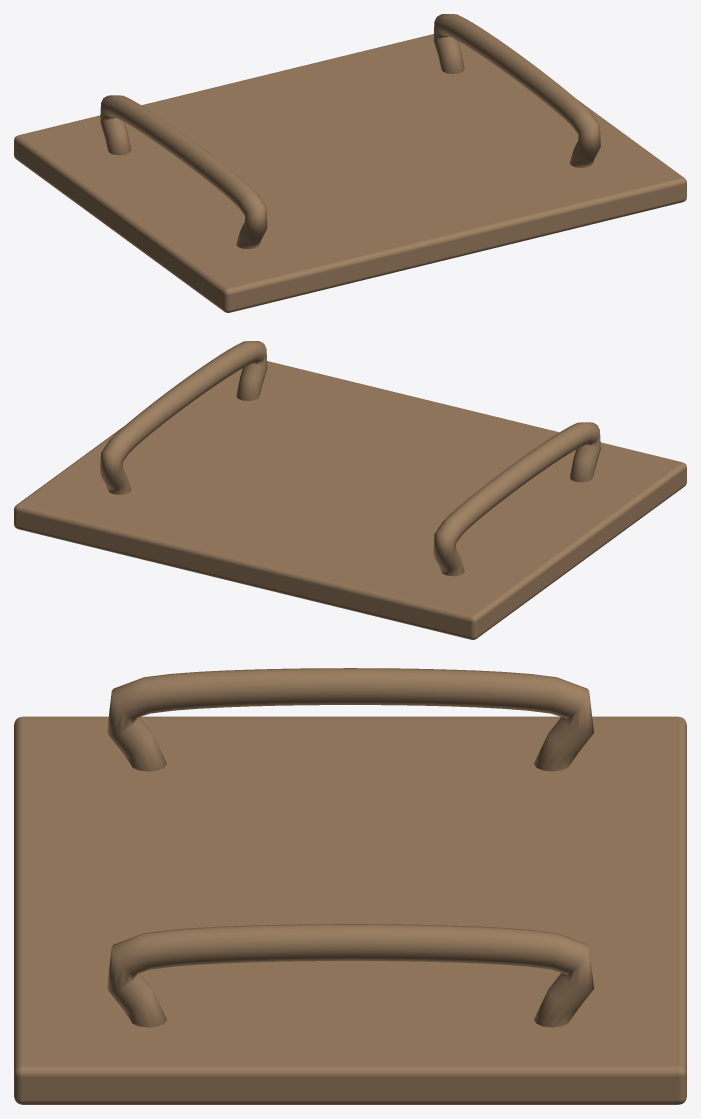
File: chocolate-making-and-confectionery-ganache-transfer-bo-4c32f093__39161.glb
3 views of the same model, one above another, from view 1: azimuth 30°, elevation 25°; view 2: azimuth 150°, elevation 25°; view 3: azimuth 270°, elevation 25° (orthographic). The views are drawn at different scales.
Parts seen in each view (by area): view 1: ganache-transfer-board; view 2: ganache-transfer-board; view 3: ganache-transfer-board.
Boxes of the visible parts, x1,y1,x2,y2 form: ganache-transfer-board: [14, 14, 686, 312]; ganache-transfer-board: [14, 341, 686, 639]; ganache-transfer-board: [14, 668, 686, 1104].
Size of the model in its own units: 0.5 by 0.0866 by 0.4.
